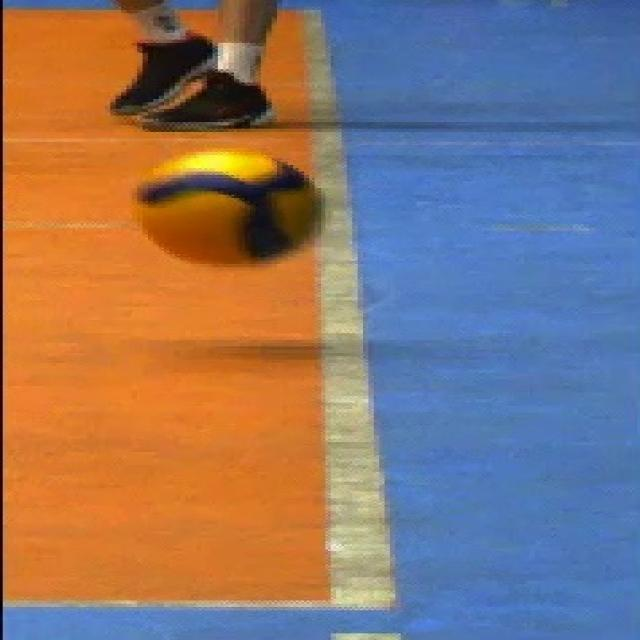Volleyball: (136, 150, 321, 264)
